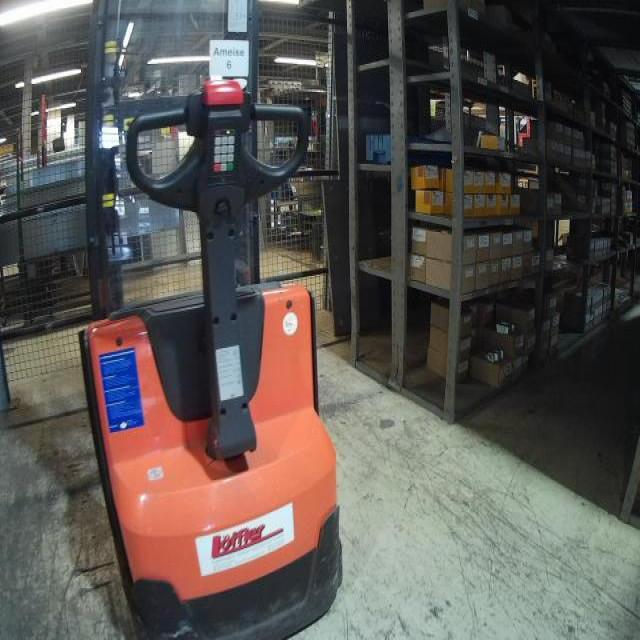pallet_truck: (70, 2, 345, 640)
small_load_carrier: (363, 131, 390, 158)
